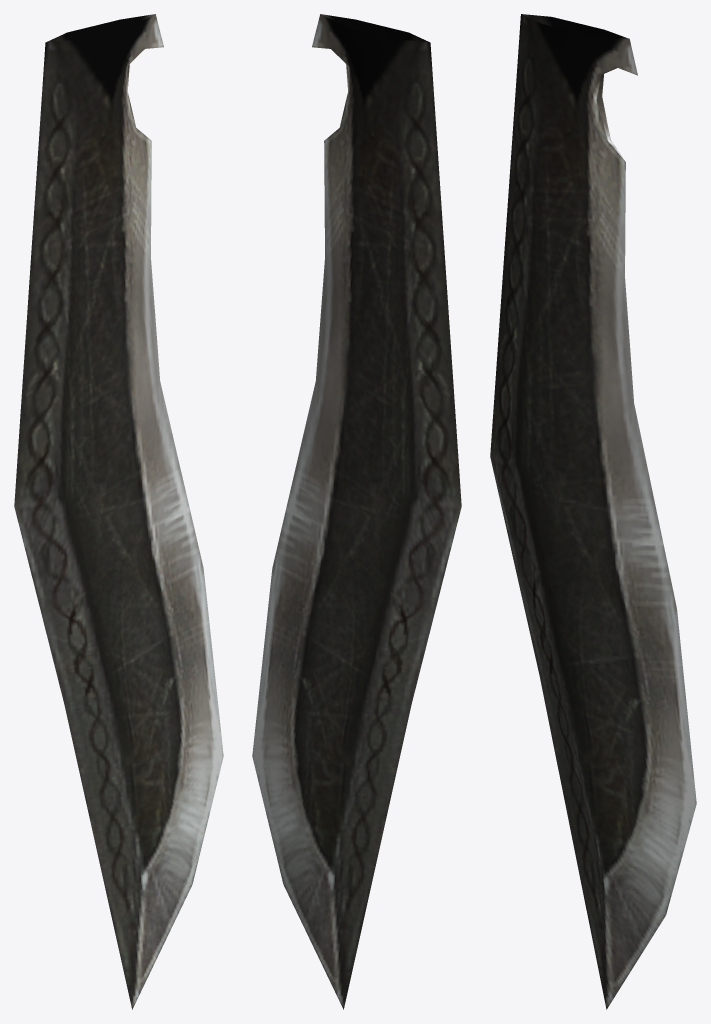
The model's file is Shoulieduandao_body.FBX.
3 views of the same model, side by side, from view 1: azimuth 30°, elevation 25°; view 2: azimuth 150°, elevation 25°; view 3: azimuth 330°, elevation 25° (orthographic).
Visible parts, largest first — view 1: Shoulieduandao_body; view 2: Shoulieduandao_body; view 3: Shoulieduandao_body.
Boxes of the visible parts, left/top/right/bottom form: Shoulieduandao_body: left=14, top=14, right=223, bottom=1009; Shoulieduandao_body: left=252, top=14, right=461, bottom=1009; Shoulieduandao_body: left=490, top=14, right=696, bottom=1009.
Size of the model in its own units: 11.99 by 54.17 by 2.05.
Materials: 1 (1 with a texture image).
